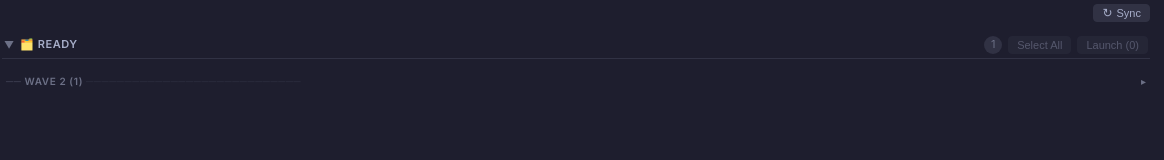
Test case: TaskList › Wave 2+ tasks render with blocked CSS class
The width and height of the screenshot is (1164, 160).
Click the button with test id "wave-header-2" at coordinates (42, 81), box top-left (2, 71), bottom-right (1150, 91)
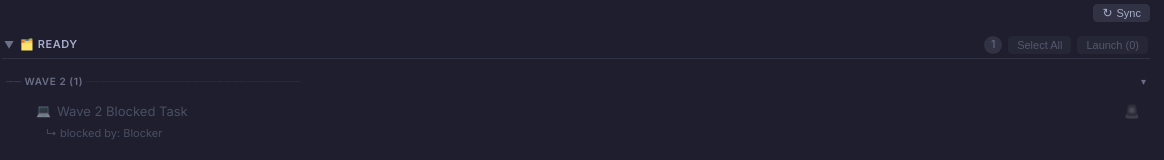
Expected: the text "Wave 2 Blocked Task" is shown, top-left (57, 103), bottom-right (188, 119)
